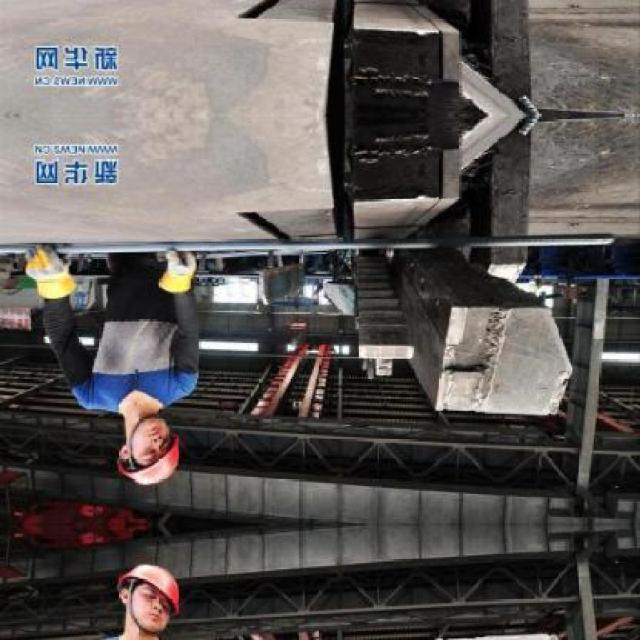safetyhelmet: (110, 400, 187, 490)
